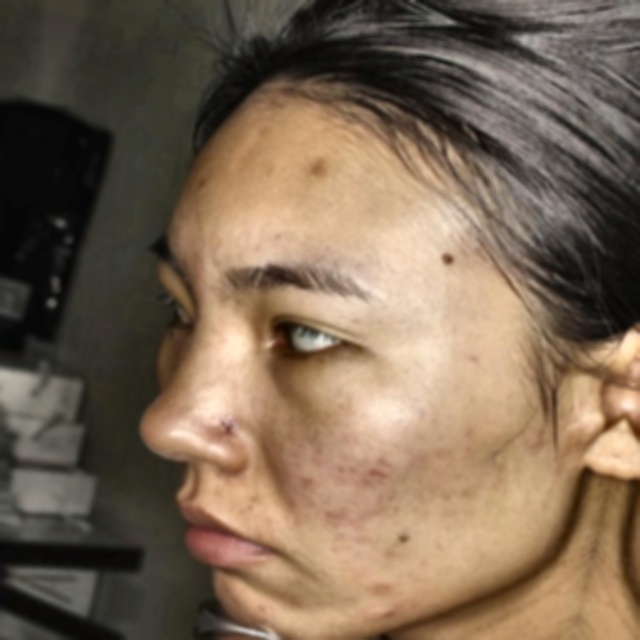comedone: (364, 579, 397, 604), (376, 597, 401, 626)
